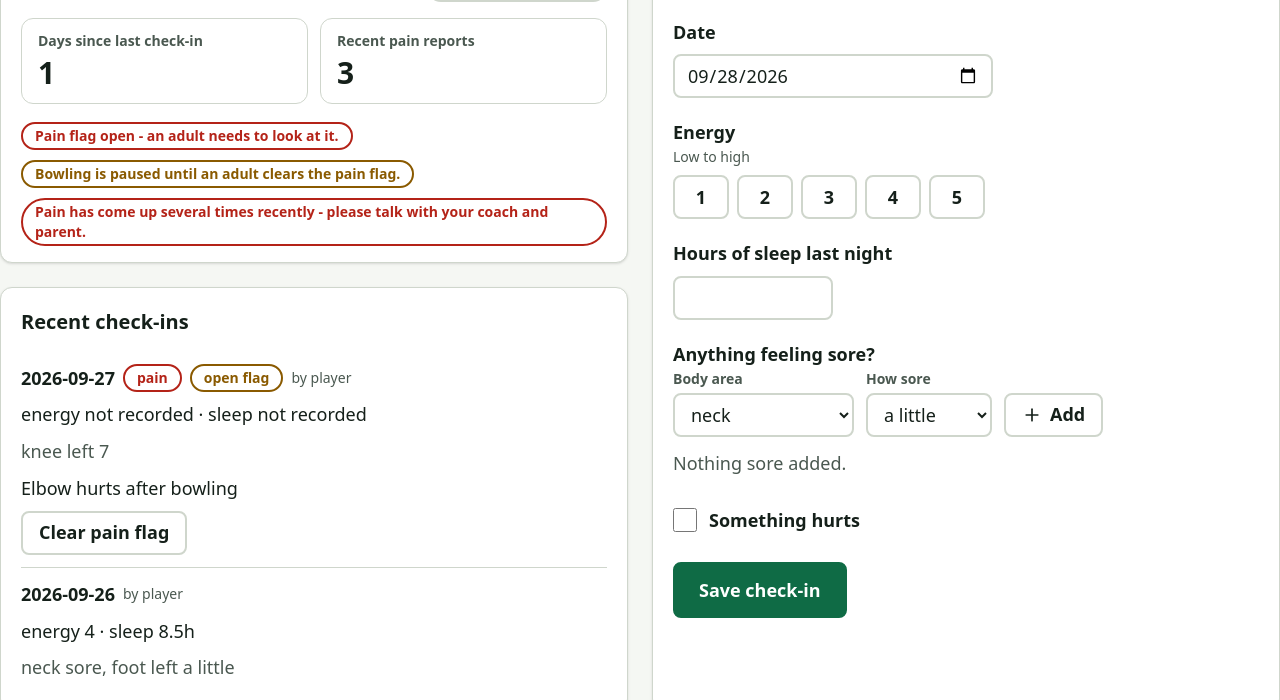
Test: check-in form › shows the server's 422 problems verbatim
This screenshot has width=1280, height=700.
(page scrolled)
Check: the list with test id "wellness-flags" is shown, box x1=21 y1=120 x2=607 y2=246
Click the button "Save check-in" at (760, 590), box x1=673 y1=562 x2=847 y2=618
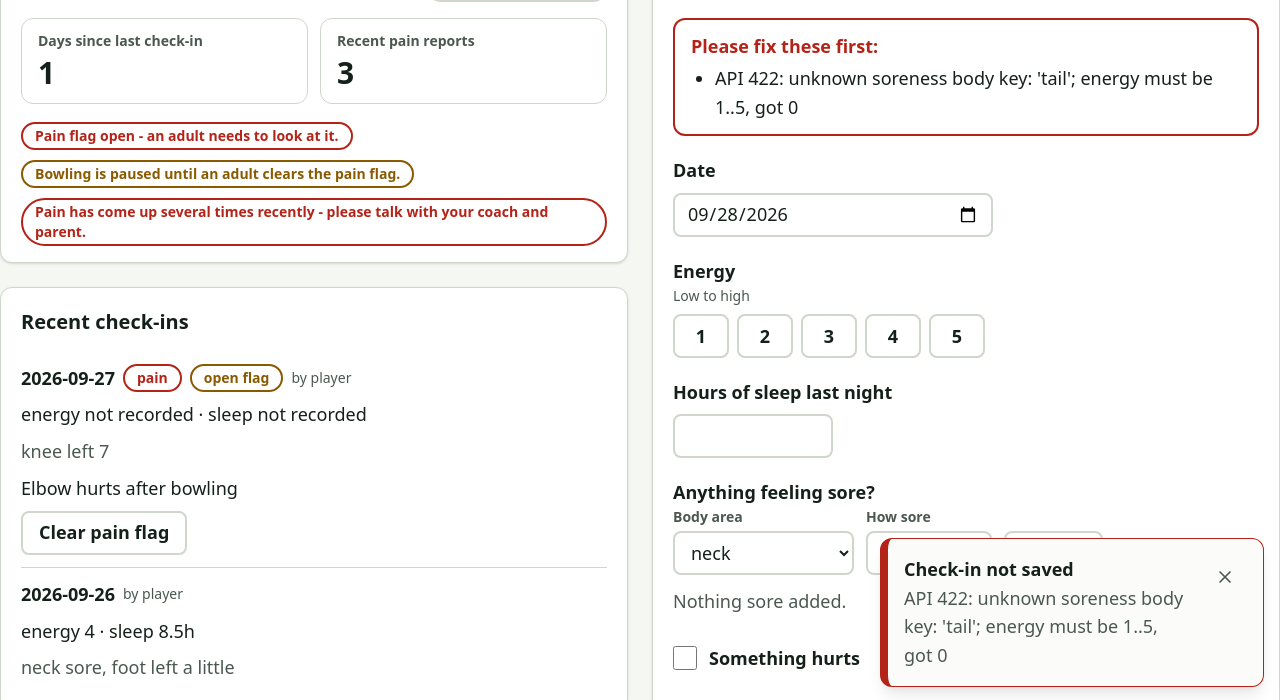
Check: the list item "API 422: unknown soreness body key: 'tail'; energy must be 1..5, got 0" is shown, box x1=715 y1=64 x2=1241 y2=122
Check: the text "Check-in not saved" is shown, box x1=904 y1=557 x2=1074 y2=581
